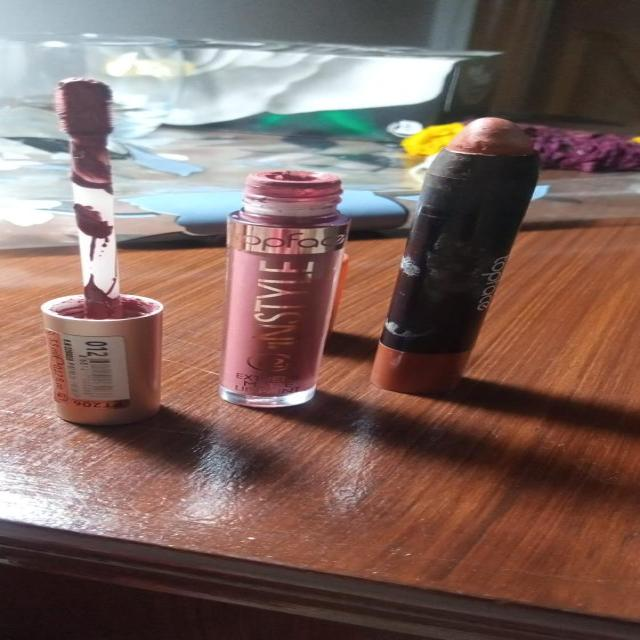lip gloss: (32, 62, 182, 430), (184, 139, 367, 418)
lip liner: (365, 107, 562, 397)
